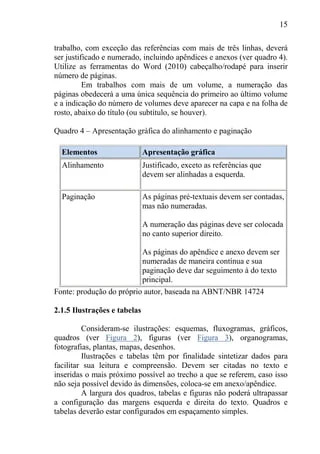Texto: (46, 38, 300, 426)
